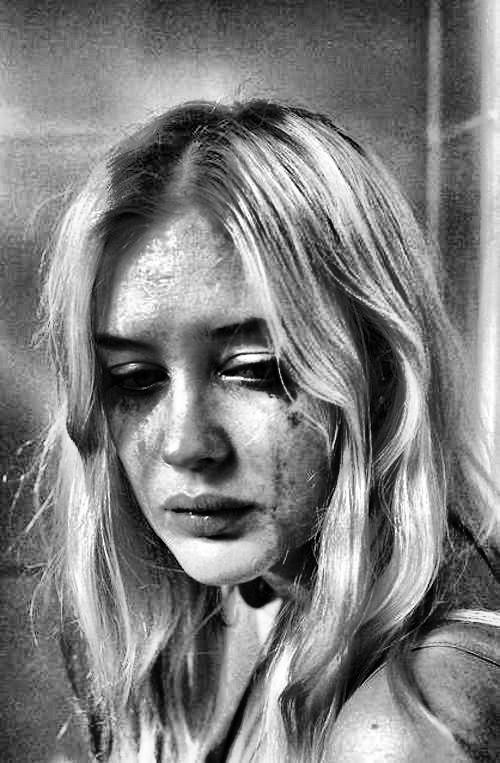sad: (71, 244, 404, 584)
